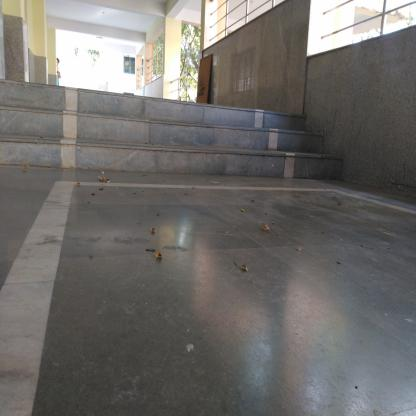stairs: (5, 110, 291, 180)
